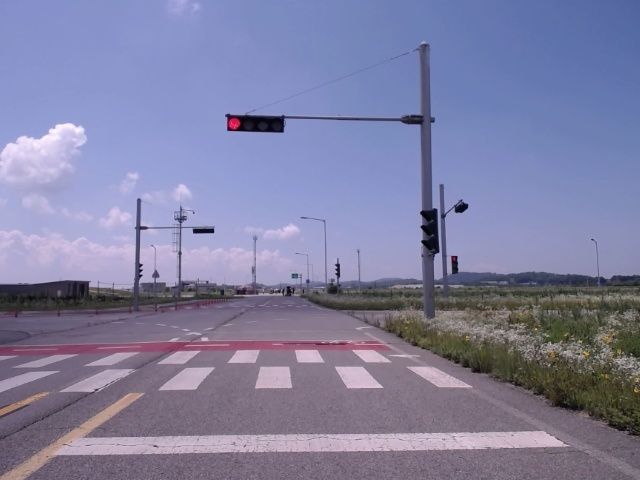red_4: (227, 114, 284, 133)
